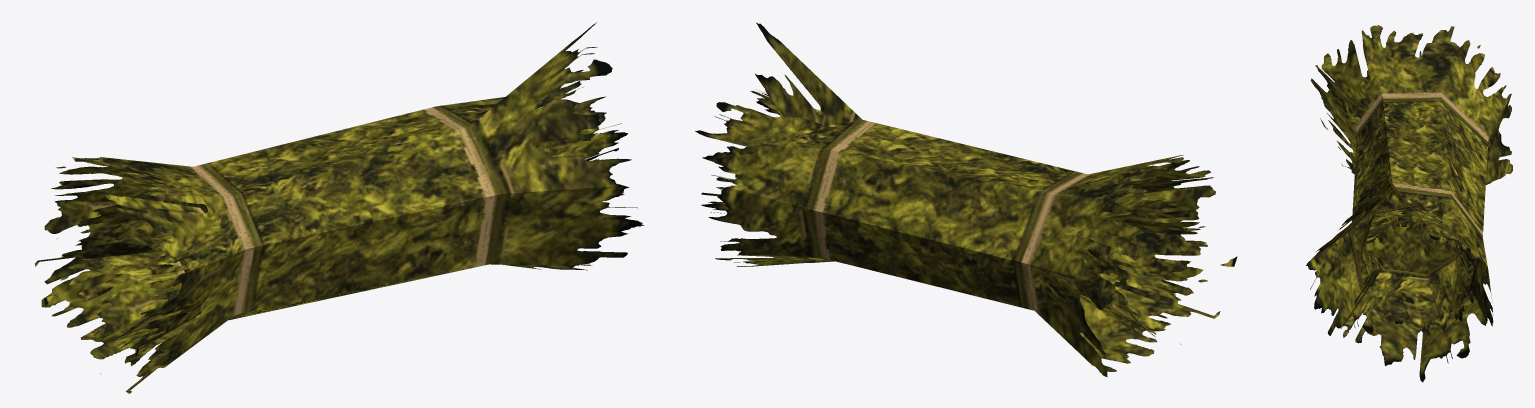
The model's file is kmb_marijuana.obj.
3 renders of one model, left to right at view 1: azimuth 30°, elevation 25°; view 2: azimuth 150°, elevation 25°; view 3: azimuth 270°, elevation 25°, orthographic. The views are drawn at different scales.
Visible parts, largest first — view 1: kmb_marijuana; view 2: kmb_marijuana; view 3: kmb_marijuana.
Boxes of the visible parts, bbox=[...] form: kmb_marijuana: bbox=[35, 22, 644, 393]; kmb_marijuana: bbox=[695, 22, 1237, 376]; kmb_marijuana: bbox=[1306, 25, 1512, 382].
Size of the model in its own units: 1.71 by 0.8319 by 0.7913.
Materials: 1 (1 with a texture image).
